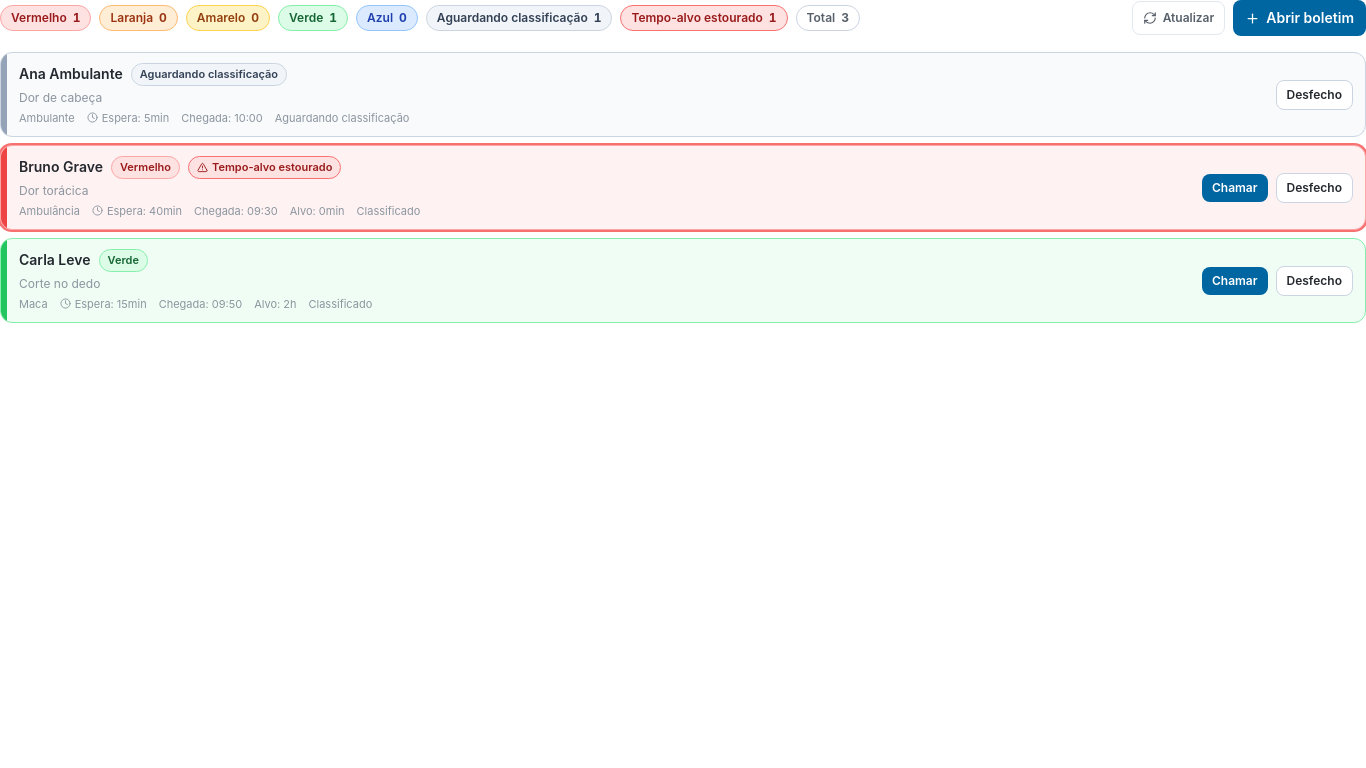
Test: PsBoard › opens the Abrir boletim modal with emergency.manage
Expected: the text "Bruno Grave" is shown, [19,157,103,177]
Step 1. Click the button "Abrir boletim" → (1300, 18), box [1233,0,1365,36]
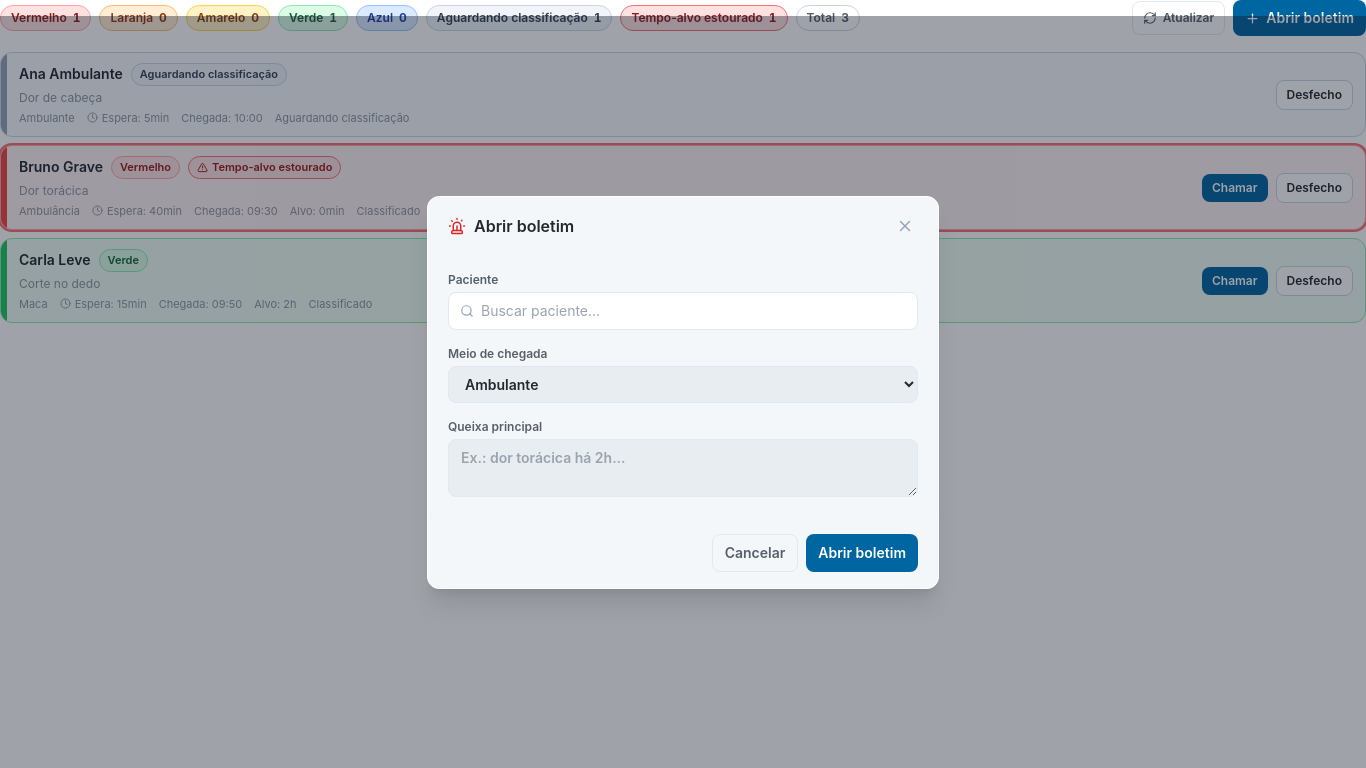
Now the dialog "Abrir boletim" is shown
